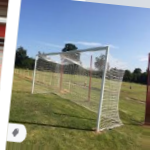goals: (29, 44, 125, 134)
